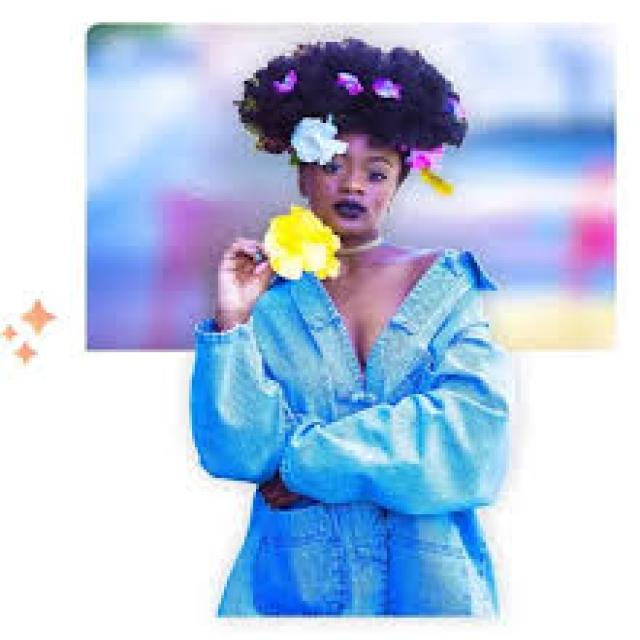Edited images: (170, 18, 563, 618)
